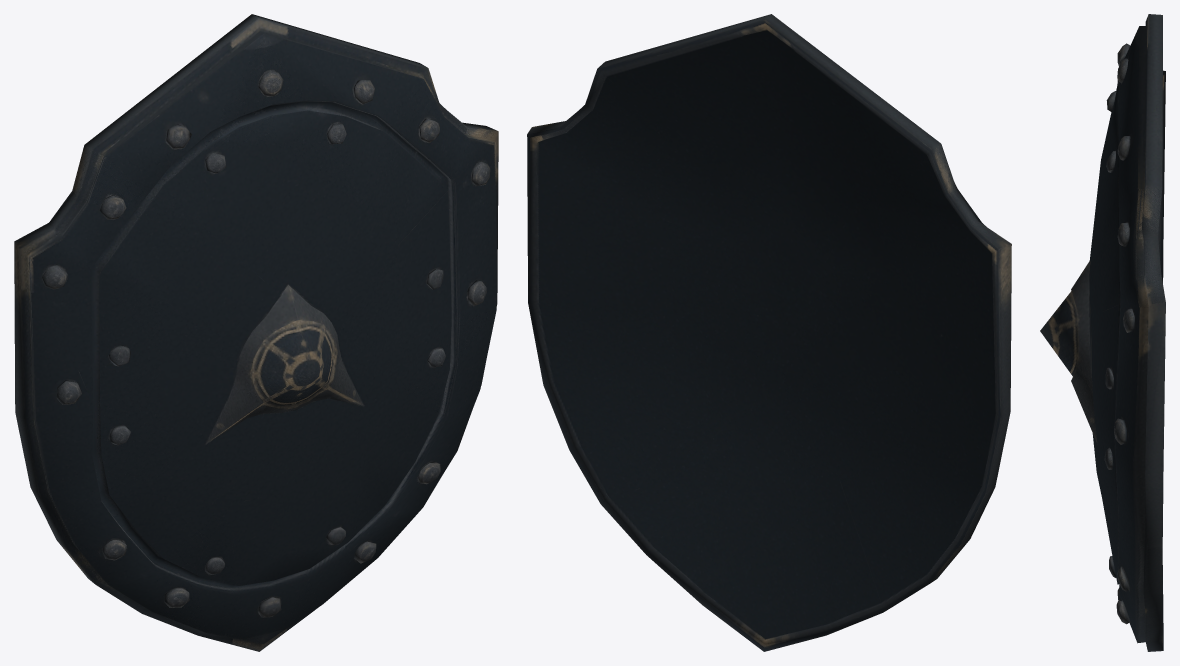
Rendered from w_knight_shield.glb.
3 renders of one model, left to right at view 1: azimuth 30°, elevation 25°; view 2: azimuth 150°, elevation 25°; view 3: azimuth 270°, elevation 25°, orthographic.
Bounding box in the file's own units: 0.7539 × 0.9521 × 0.1704.
1 material, 1 textured.
